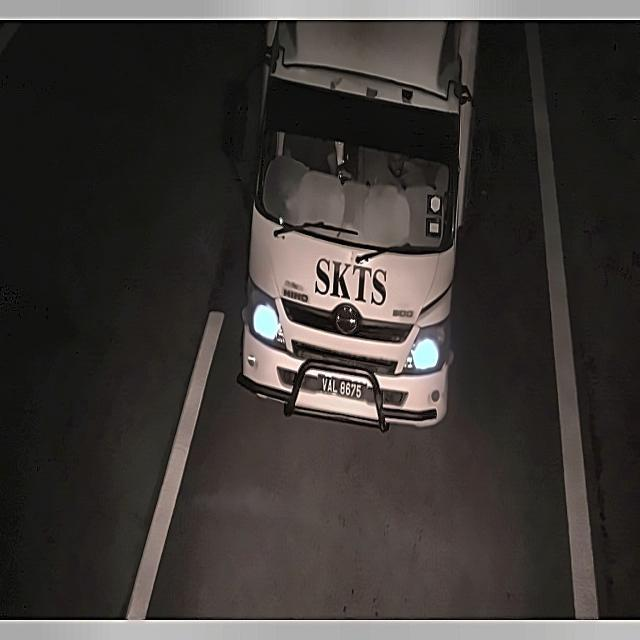car: (314, 369, 369, 405)
